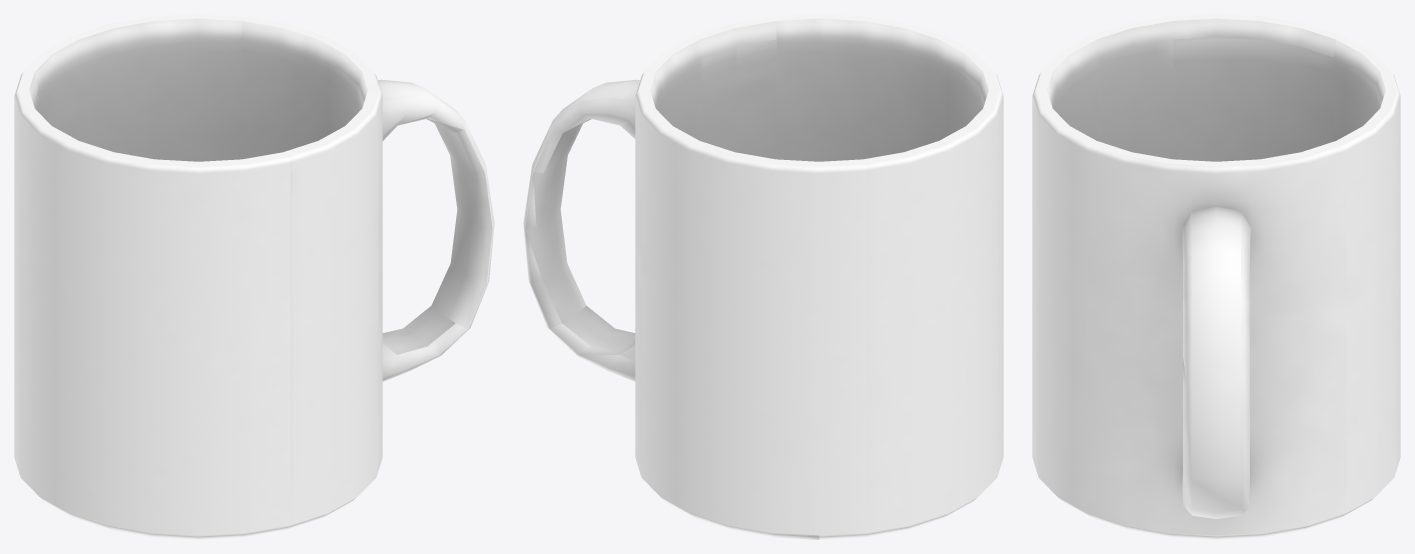
Rendered from CupShapes.glb.
3 renders of one model, left to right at view 1: azimuth 30°, elevation 25°; view 2: azimuth 150°, elevation 25°; view 3: azimuth 270°, elevation 25°, orthographic.
Visible parts, largest first — view 1: CupShapes; view 2: CupShapes; view 3: CupShapes.
Boxes of the visible parts, left/top/right/bottom form: CupShapes: left=14, top=14, right=494, bottom=539; CupShapes: left=523, top=14, right=1003, bottom=539; CupShapes: left=1032, top=14, right=1400, bottom=539.
Size of the model in its own units: 0.1118 by 0.09 by 0.08.
Materials: 1 (1 with a texture image).
